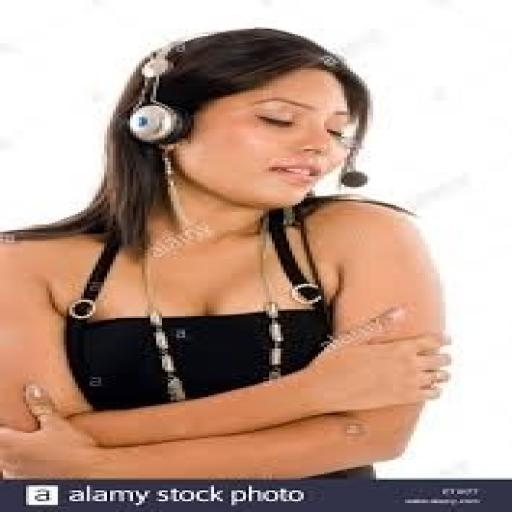listening_to_music: (0, 25, 457, 482)
